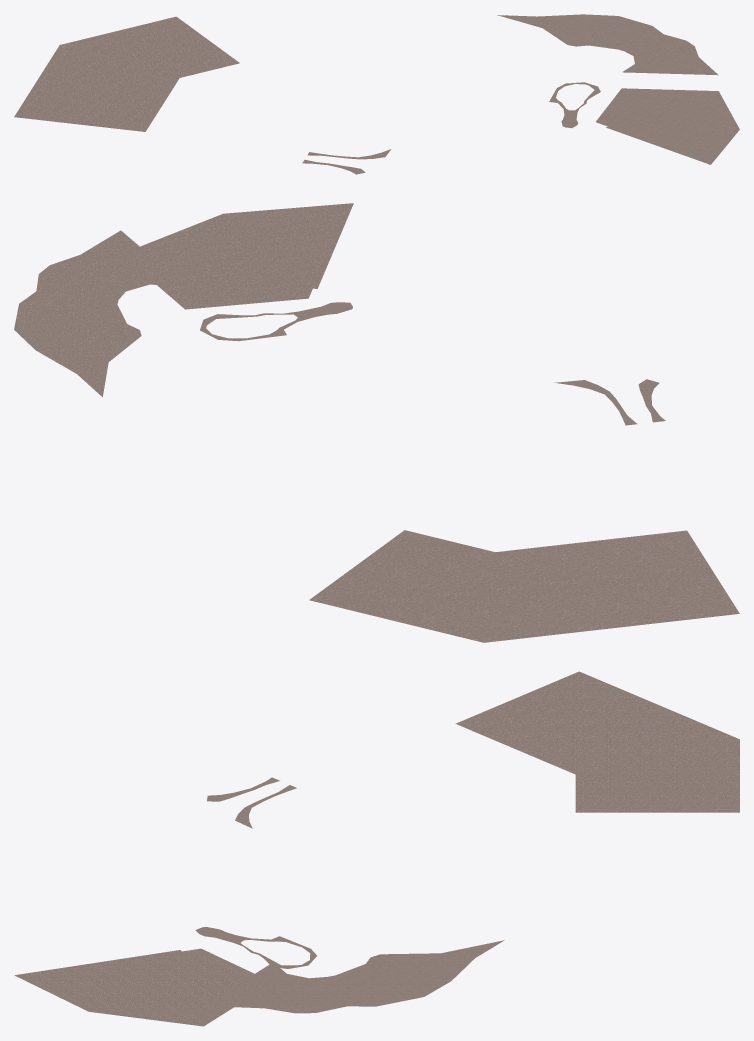
Rendered from kd_stage_136282_3_5_bounded.glb.
3 views of the same model, one above another, from view 1: azimuth 30°, elevation 25°; view 2: azimuth 150°, elevation 25°; view 3: azimuth 270°, elevation 25° (orthographic). The views are drawn at different scales.
Visible parts, largest first — view 1: kd_stage_136282_3_5_bounded; view 2: kd_stage_136282_3_5_bounded; view 3: kd_stage_136282_3_5_bounded.
Boxes of the visible parts, x1=… form: kd_stage_136282_3_5_bounded: x1=14, y1=14, x2=739, y2=174; kd_stage_136282_3_5_bounded: x1=14, y1=203, x2=739, y2=642; kd_stage_136282_3_5_bounded: x1=14, y1=671, x2=739, y2=1026.
Bounding box in the file's own units: 26.25 × 0.6999 × 22.5.
1 material, 1 textured.
